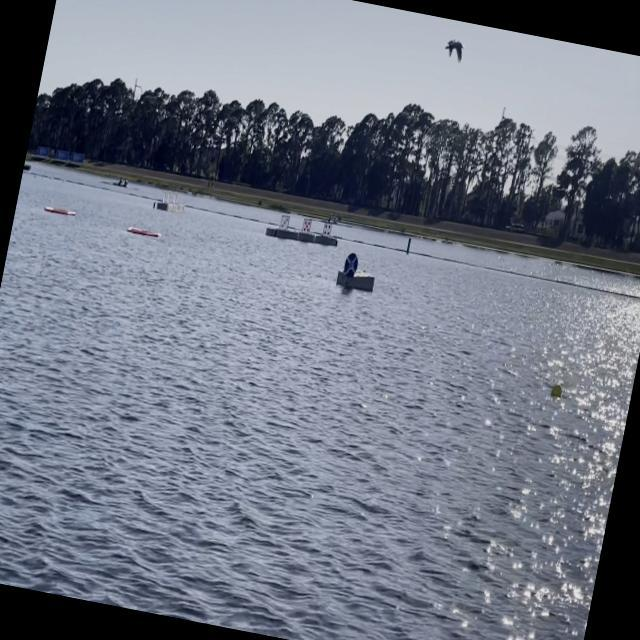buoy: (549, 379, 563, 399)
